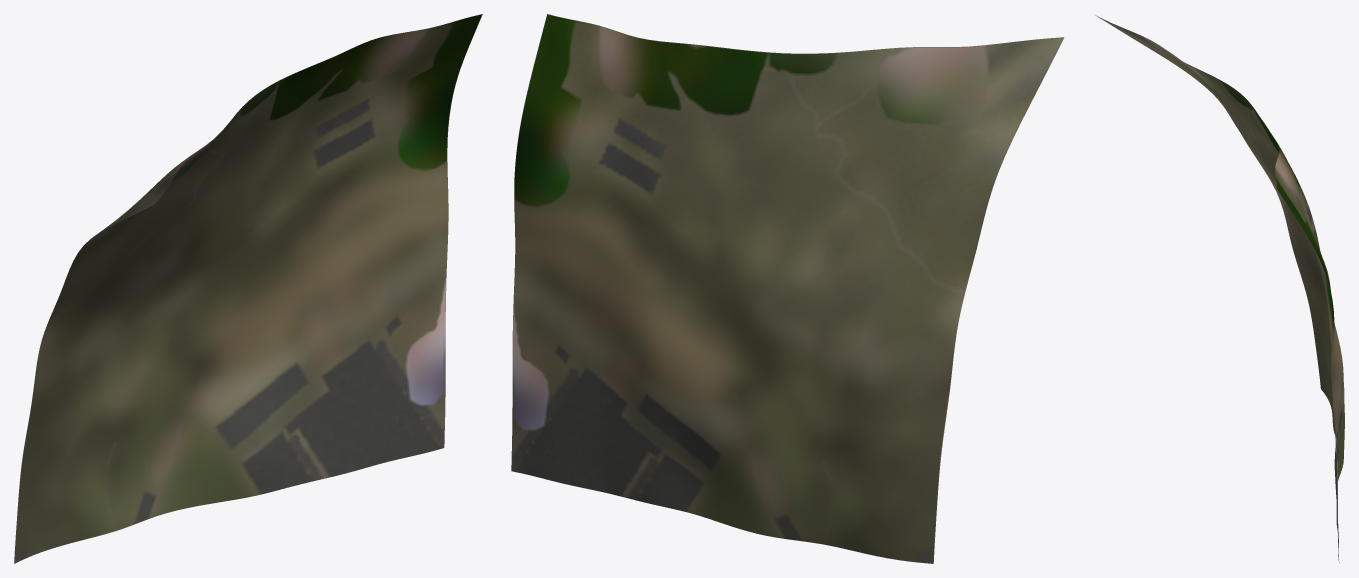
File: ground_mid_09_09.obj
3 renders of one model, left to right at view 1: azimuth 30°, elevation 25°; view 2: azimuth 150°, elevation 25°; view 3: azimuth 270°, elevation 25°, orthographic. The views are drawn at different scales.
Parts seen in each view (by area): view 1: ground_mid_09_09; view 2: ground_mid_09_09; view 3: ground_mid_09_09.
Part boxes in pixels (x1,y1,x2,y2): ground_mid_09_09: [14, 14, 482, 563]; ground_mid_09_09: [511, 14, 1064, 563]; ground_mid_09_09: [1095, 15, 1344, 562].
Bounding box in the file's own units: 200 × 200 × 122.
1 material, 1 textured.
